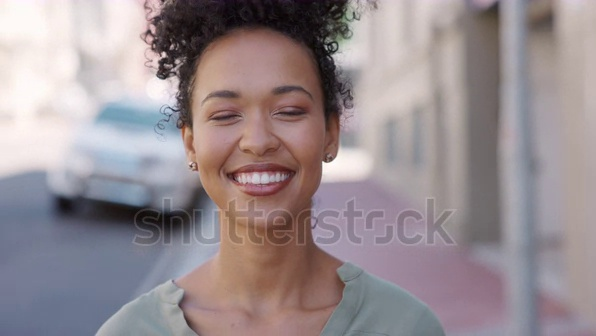No Mask: (195, 143, 336, 217)
